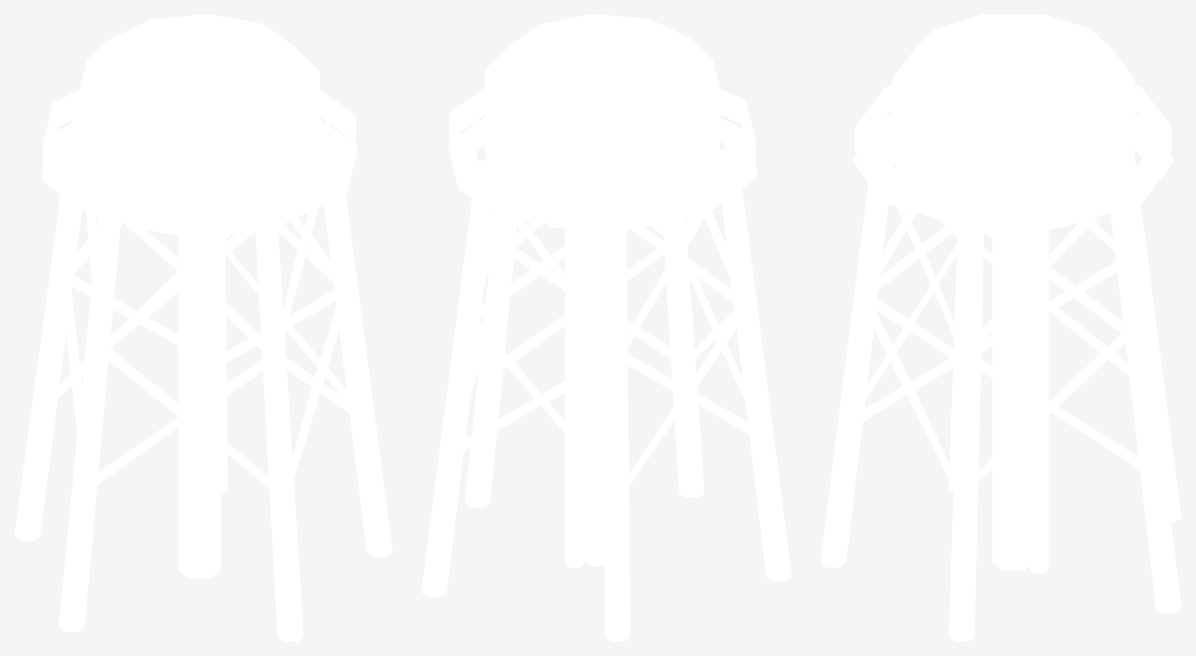
The model's file is water-tower-medium.glb.
3 views of the same model, side by side, from view 1: azimuth 30°, elevation 25°; view 2: azimuth 150°, elevation 25°; view 3: azimuth 270°, elevation 25° (orthographic). The views are drawn at different scales.
Parts seen in each view (by area): view 1: water-tower-medium; view 2: water-tower-medium; view 3: water-tower-medium.
Boxes of the visible parts, box(x1,y1,x2,y2) form: water-tower-medium: box(14, 14, 392, 641); water-tower-medium: box(421, 14, 791, 641); water-tower-medium: box(820, 14, 1181, 641).
Size of the model in its own units: 10.18 by 15.83 by 9.83.
Materials: 1 (1 with a texture image).
